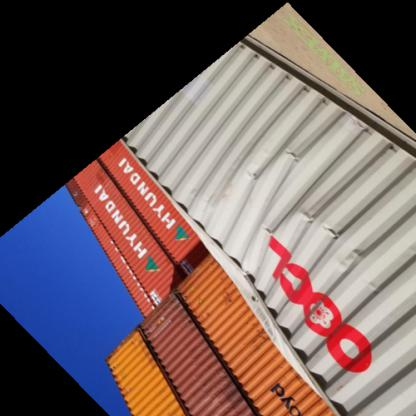Damage: (211, 139, 351, 362)
